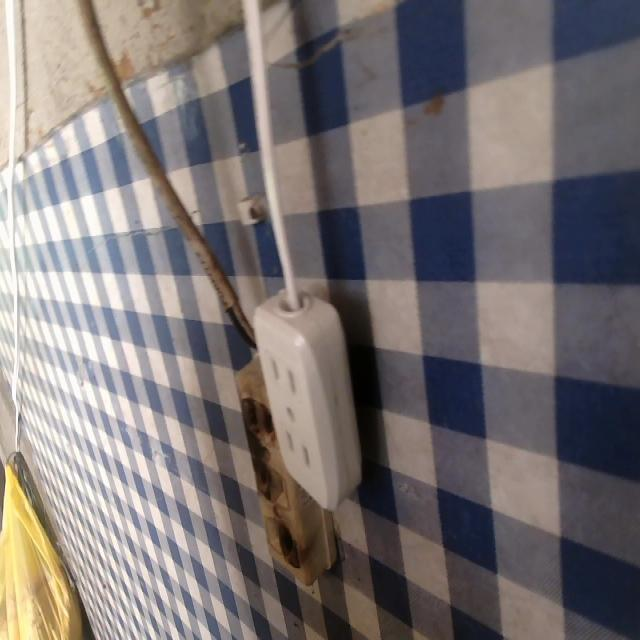-: (237, 389, 280, 443), (273, 512, 301, 576)
